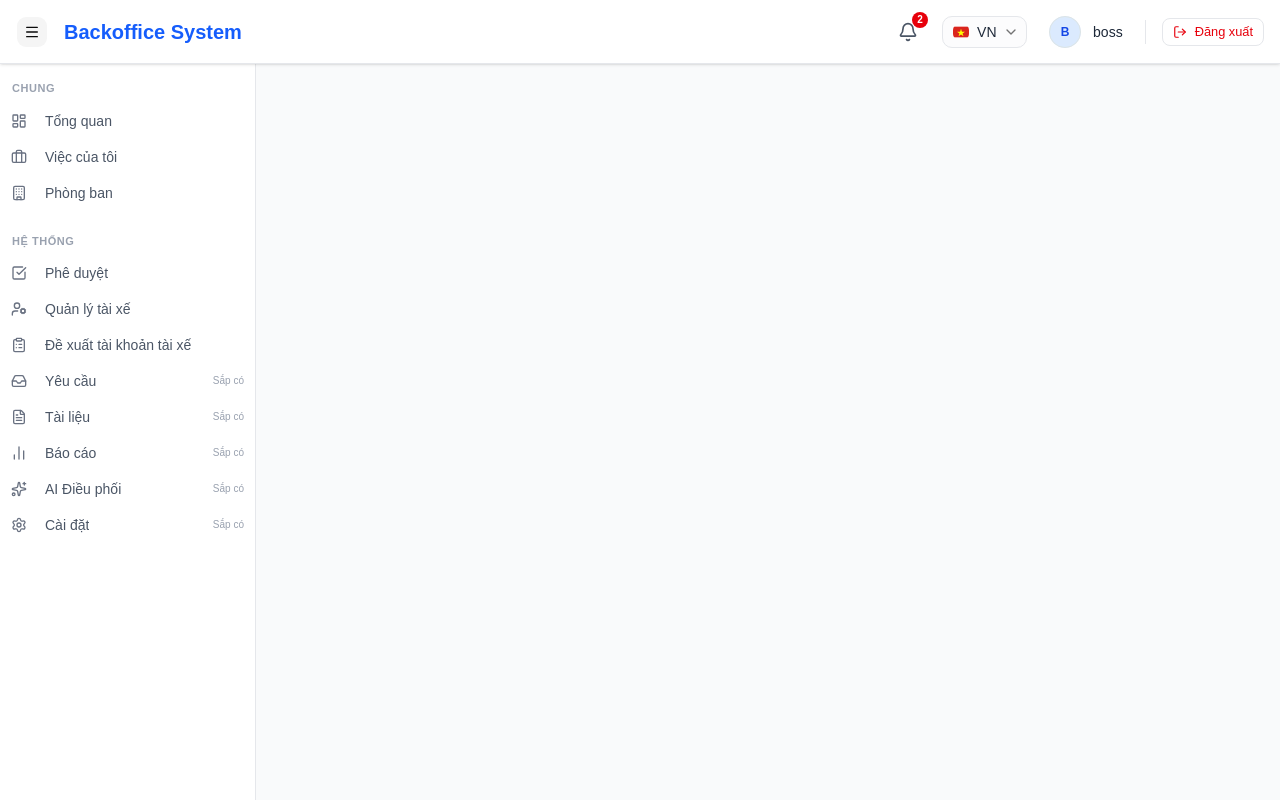
Test: MainLayout › the completion bell › names the lorry and driver when the queue can say, and draws the row regardless when it cannot
Expected: the text "2" is shown, [912, 12, 928, 28]
Step 1. Click the button named "thông báo" → [908, 32], box [890, 14, 926, 50]
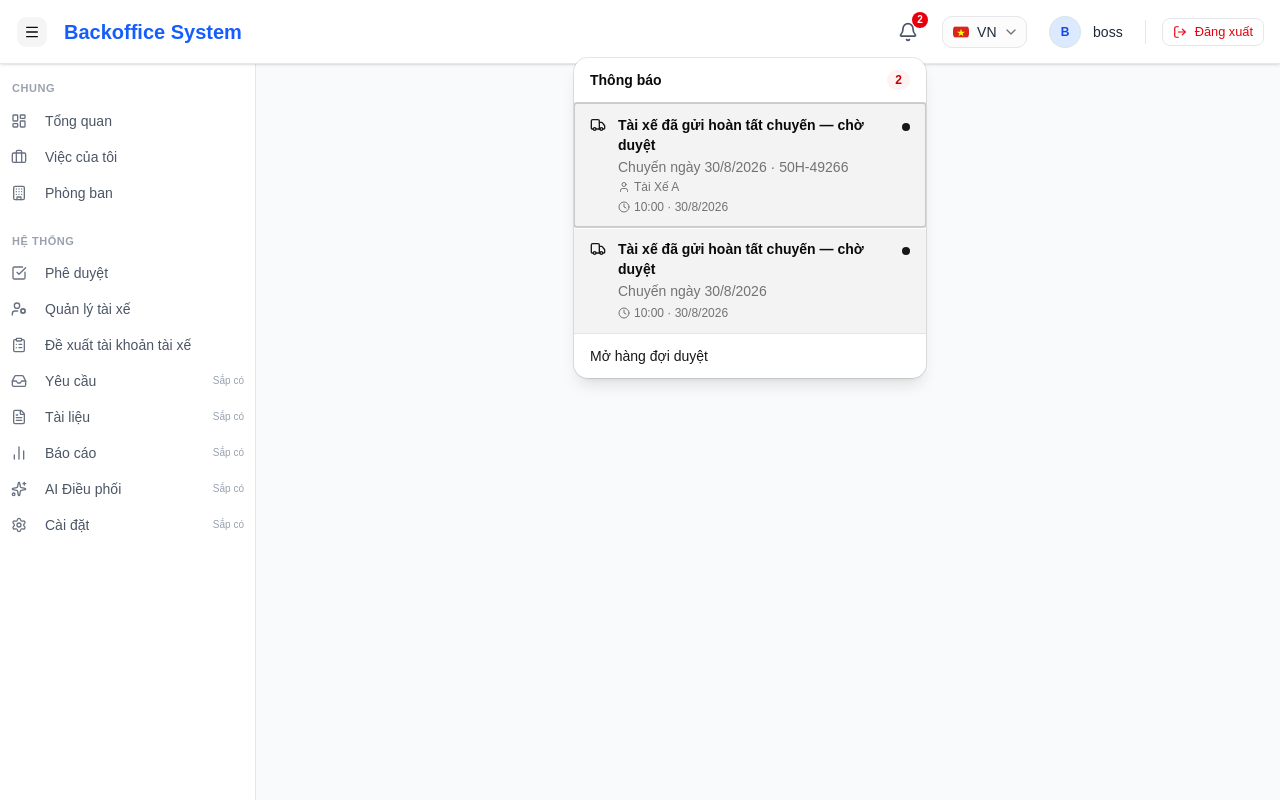
Expected: the text "Tài Xế A" is shown, [618, 180, 679, 194]
Expected: the text "Tài xế đã gửi hoàn tất chuyến — chờ duyệt" is shown 2 times, [618, 115, 890, 155]; [618, 239, 890, 279]
